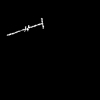treble_crochet: (9, 21, 43, 34)
